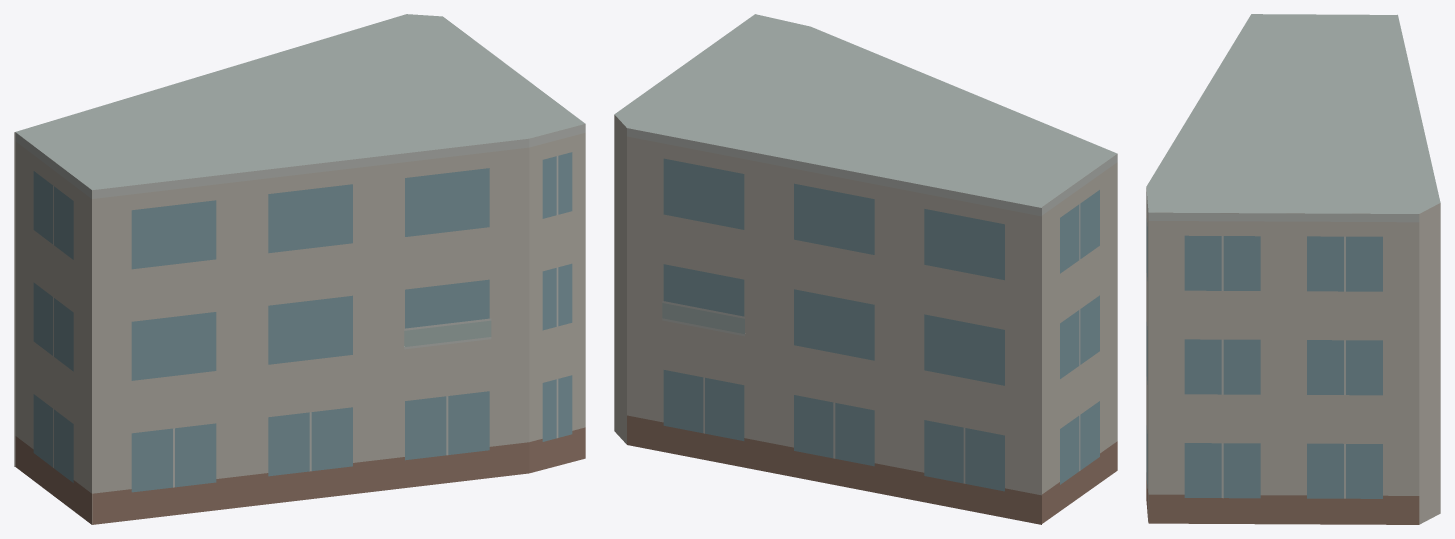
File: survey-upis-32619388.glb
3 renders of one model, left to right at view 1: azimuth 30°, elevation 25°; view 2: azimuth 150°, elevation 25°; view 3: azimuth 270°, elevation 25°, orthographic. The views are drawn at different scales.
Visible parts, largest first — view 1: survey-upis-32619388.tmp; view 2: survey-upis-32619388.tmp; view 3: survey-upis-32619388.tmp.
Boxes of the visible parts, x1,y1,x2,y2 form: survey-upis-32619388.tmp: [14, 14, 585, 524]; survey-upis-32619388.tmp: [614, 14, 1117, 524]; survey-upis-32619388.tmp: [1146, 14, 1440, 524].
Bounding box in the file's own units: 12.71 × 9.2 × 7.9.
